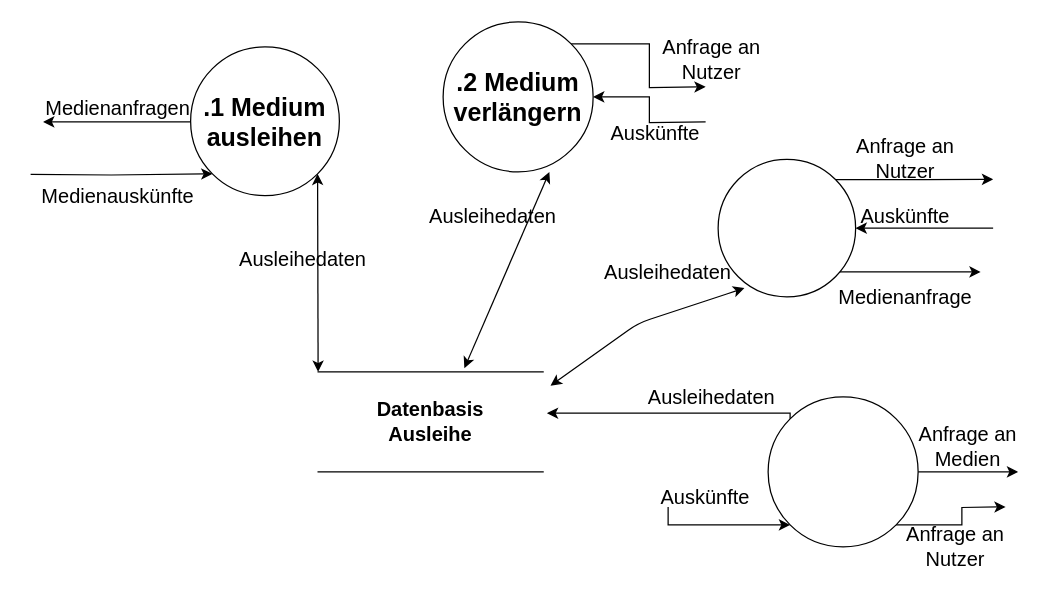
The diagram is 1053 pixels wide and 593 high, and some of its shapes have lost their labels. Here are the shapes that lost their labels. From the top down, the box of each, then its label:
(717, 158, 856, 297): .3 Medium abgeben
(767, 396, 918, 547): .4 Medium vormerken
